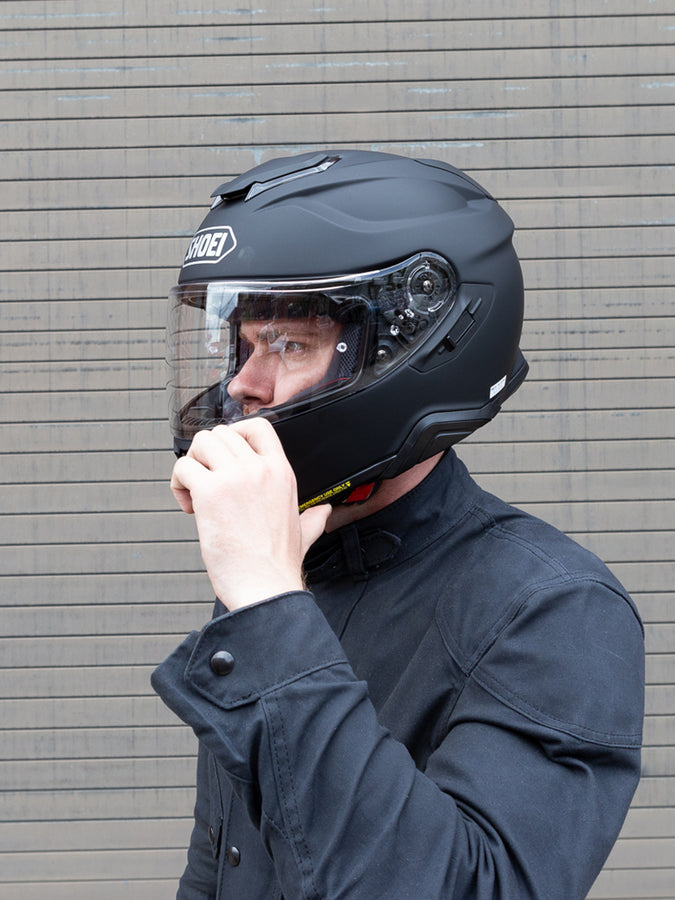helmets: (138, 108, 566, 533)
